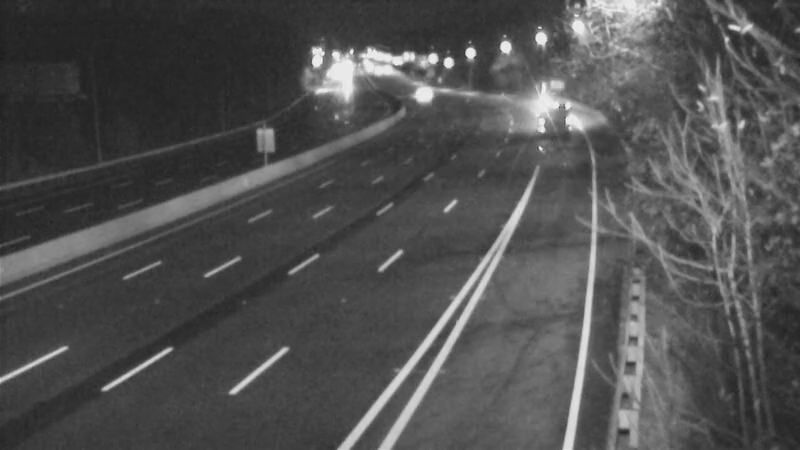vehicle: (393, 69, 443, 119), (519, 87, 569, 137)
